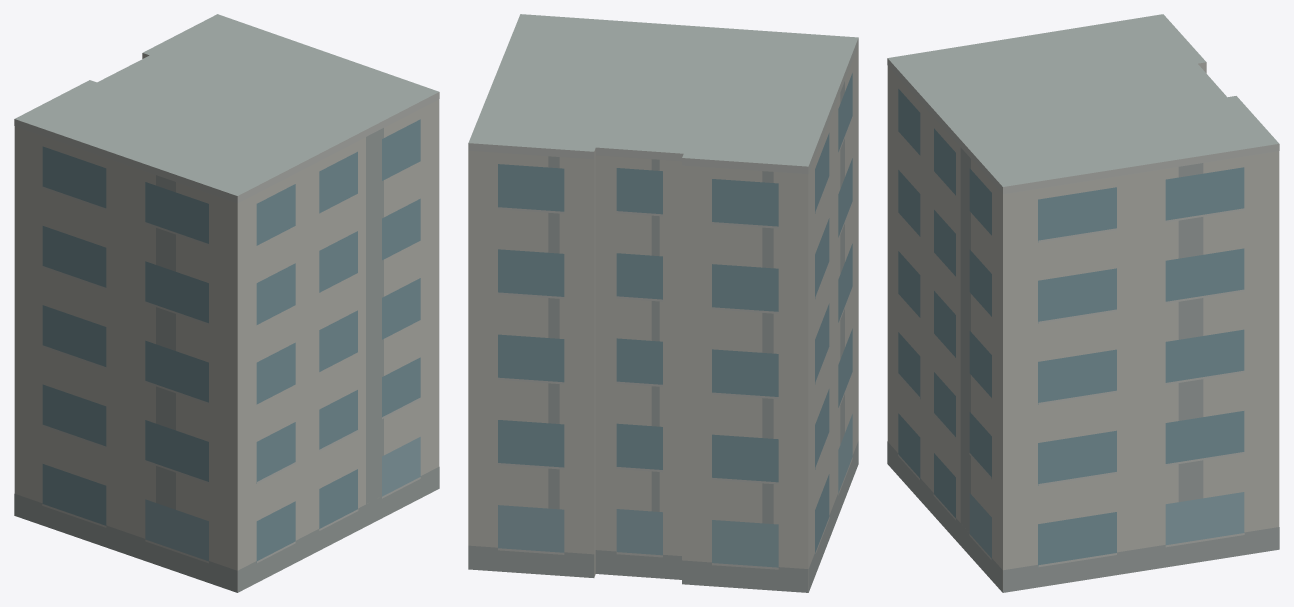
The model's file is survey-upis-33015613.glb.
3 renders of one model, left to right at view 1: azimuth 30°, elevation 25°; view 2: azimuth 150°, elevation 25°; view 3: azimuth 270°, elevation 25°, orthographic. The views are drawn at different scales.
Visible parts, largest first — view 1: survey-upis-33015613.tmp; view 2: survey-upis-33015613.tmp; view 3: survey-upis-33015613.tmp.
Boxes of the visible parts, x1,y1,x2,y2 form: survey-upis-33015613.tmp: (14,14,439,592); survey-upis-33015613.tmp: (468,14,858,592); survey-upis-33015613.tmp: (887,14,1279,592).
Bounding box in the file's own units: 12.4 × 13.55 × 11.87.
